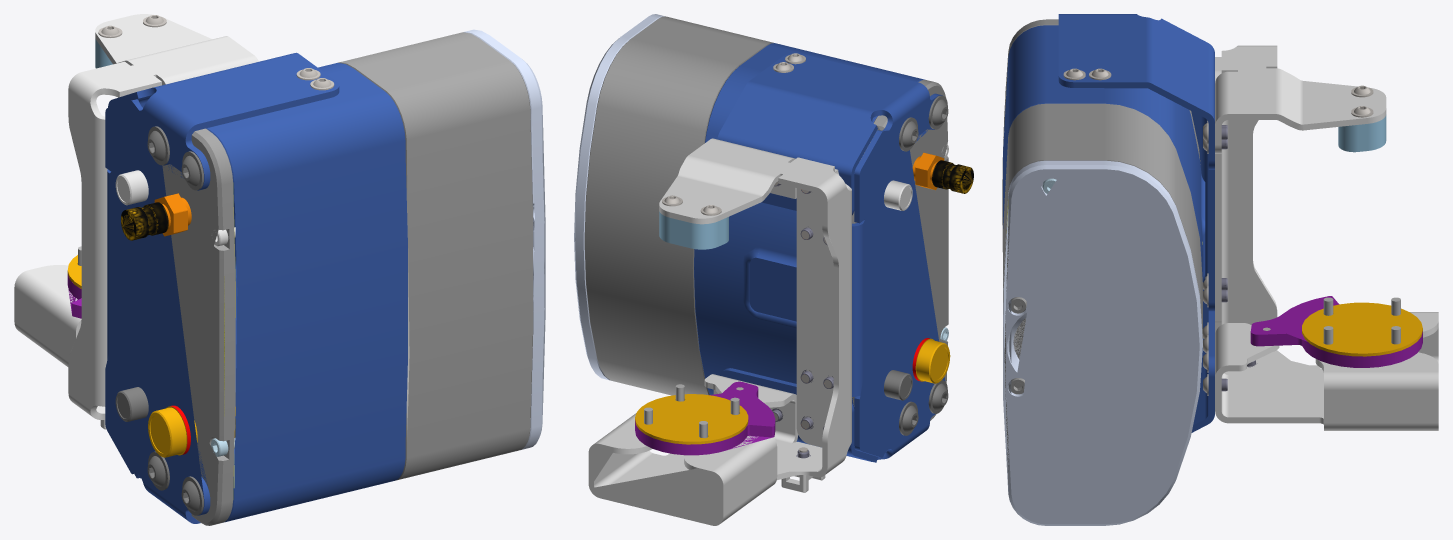
The model's file is neck_pitch_link_modified.obj.
3 renders of one model, left to right at view 1: azimuth 30°, elevation 25°; view 2: azimuth 150°, elevation 25°; view 3: azimuth 270°, elevation 25°, orthographic. The views are drawn at different scales.
Visible parts, largest first — view 1: mesh813_mesh813_0.231373_0.380392_0.705882_0.000000_0.000000, mesh322_mesh322_0.647059_0.647059_0.647059_0.000000_0.000000, mesh1059_mesh1059_0.231373_0.380392_0.705882_0.000000_0.000000, mesh3_mesh3_0.647059_0.647059_0.647059_0.000000_0.000000, mesh812_mesh812_0.231373_0.380392_0.705882_0.000000_0.000000, mesh320_mesh320_0.647059_0.647059_0.647059_0.000000_0.000000, mesh1044_mesh1044_0.231373_0.380392_0.705882_0.000000_0.000000, mesh1248_mesh1248_0.917647_0.917647_0.917647_0.000000_0.000000, mesh1278_mesh1278_0.917647_0.917647_0.917647_0.000000_0.000000, mesh1251_mesh1251_0.917647_0.917647_0.917647_0.000000_0.000000, mesh335_mesh335_0.647059_0.647059_0.647059_0.000000_0.000000, mesh547_mesh547_0.866667_0.909804_1.000000_0.000000_0.000000 (+15 smaller); view 2: mesh329_mesh329_0.647059_0.647059_0.647059_0.000000_0.000000, mesh1059_mesh1059_0.231373_0.380392_0.705882_0.000000_0.000000, mesh836_mesh836_0.231373_0.380392_0.705882_0.000000_0.000000, mesh331_mesh331_0.647059_0.647059_0.647059_0.000000_0.000000, mesh1309_mesh1309_0.917647_0.917647_0.917647_0.000000_0.000000, mesh1050_mesh1050_0.231373_0.380392_0.705882_0.000000_0.000000, mesh1207_mesh1207_0.917647_0.917647_0.917647_0.000000_0.000000, mesh1044_mesh1044_0.231373_0.380392_0.705882_0.000000_0.000000, mesh3_mesh3_0.647059_0.647059_0.647059_0.000000_0.000000, mesh1248_mesh1248_0.917647_0.917647_0.917647_0.000000_0.000000, mesh255_mesh255_0.980392_0.713725_0.003922_0.000000_0.000000, mesh1278_mesh1278_0.917647_0.917647_0.917647_0.000000_0.000000 (+34 smaller); view 3: mesh532_mesh532_0.866667_0.909804_1.000000_0.000000_0.000000, mesh1247_mesh1247_0.917647_0.917647_0.917647_0.000000_0.000000, mesh1044_mesh1044_0.231373_0.380392_0.705882_0.000000_0.000000, mesh1319_mesh1319_0.917647_0.917647_0.917647_0.000000_0.000000, mesh255_mesh255_0.980392_0.713725_0.003922_0.000000_0.000000, mesh331_mesh331_0.647059_0.647059_0.647059_0.000000_0.000000, mesh1050_mesh1050_0.231373_0.380392_0.705882_0.000000_0.000000, mesh1203_mesh1203_0.917647_0.917647_0.917647_0.000000_0.000000, mesh335_mesh335_0.647059_0.647059_0.647059_0.000000_0.000000, mesh1278_mesh1278_0.917647_0.917647_0.917647_0.000000_0.000000, mesh812_mesh812_0.231373_0.380392_0.705882_0.000000_0.000000, mesh1302_mesh1302_0.917647_0.917647_0.917647_0.000000_0.000000 (+26 smaller).
Part boxes in pixels (x1,y1,x2,y2): mesh813_mesh813_0.231373_0.380392_0.705882_0.000000_0.000000: (234,140,407,500); mesh322_mesh322_0.647059_0.647059_0.647059_0.000000_0.000000: (406,110,532,458); mesh1059_mesh1059_0.231373_0.380392_0.705882_0.000000_0.000000: (105,101,204,515); mesh3_mesh3_0.647059_0.647059_0.647059_0.000000_0.000000: (162,135,219,523); mesh812_mesh812_0.231373_0.380392_0.705882_0.000000_0.000000: (214,91,405,182); mesh320_mesh320_0.647059_0.647059_0.647059_0.000000_0.000000: (387,60,530,139); mesh1044_mesh1044_0.231373_0.380392_0.705882_0.000000_0.000000: (156,54,339,123); mesh1248_mesh1248_0.917647_0.917647_0.917647_0.000000_0.000000: (68,89,94,409); mesh1278_mesh1278_0.917647_0.917647_0.917647_0.000000_0.000000: (81,37,253,91); mesh1251_mesh1251_0.917647_0.917647_0.917647_0.000000_0.000000: (94,115,107,406); mesh335_mesh335_0.647059_0.647059_0.647059_0.000000_0.000000: (355,38,509,90); mesh547_mesh547_0.866667_0.909804_1.000000_0.000000_0.000000: (531,107,544,427); mesh329_mesh329_0.647059_0.647059_0.647059_0.000000_0.000000: (584,105,705,385); mesh1059_mesh1059_0.231373_0.380392_0.705882_0.000000_0.000000: (859,95,945,457); mesh836_mesh836_0.231373_0.380392_0.705882_0.000000_0.000000: (694,132,854,403); mesh331_mesh331_0.647059_0.647059_0.647059_0.000000_0.000000: (597,38,738,131); mesh1309_mesh1309_0.917647_0.917647_0.917647_0.000000_0.000000: (796,188,833,447); mesh1050_mesh1050_0.231373_0.380392_0.705882_0.000000_0.000000: (720,85,876,163); mesh1207_mesh1207_0.917647_0.917647_0.917647_0.000000_0.000000: (588,443,723,525); mesh1044_mesh1044_0.231373_0.380392_0.705882_0.000000_0.000000: (750,53,918,111); mesh3_mesh3_0.647059_0.647059_0.647059_0.000000_0.000000: (910,85,948,420); mesh1248_mesh1248_0.917647_0.917647_0.917647_0.000000_0.000000: (827,188,850,467); mesh255_mesh255_0.980392_0.713725_0.003922_0.000000_0.000000: (635,394,748,441); mesh1278_mesh1278_0.917647_0.917647_0.917647_0.000000_0.000000: (689,139,835,186); mesh532_mesh532_0.866667_0.909804_1.000000_0.000000_0.000000: (1006,169,1199,524); mesh1247_mesh1247_0.917647_0.917647_0.917647_0.000000_0.000000: (1229,120,1277,324); mesh1044_mesh1044_0.231373_0.380392_0.705882_0.000000_0.000000: (1058,15,1145,82); mesh1319_mesh1319_0.917647_0.917647_0.917647_0.000000_0.000000: (1224,350,1323,418); mesh255_mesh255_0.980392_0.713725_0.003922_0.000000_0.000000: (1302,302,1422,353); mesh331_mesh331_0.647059_0.647059_0.647059_0.000000_0.000000: (1104,103,1175,204); mesh1050_mesh1050_0.231373_0.380392_0.705882_0.000000_0.000000: (1152,18,1207,112); mesh1203_mesh1203_0.917647_0.917647_0.917647_0.000000_0.000000: (1324,390,1438,422); mesh335_mesh335_0.647059_0.647059_0.647059_0.000000_0.000000: (1046,103,1104,159); mesh1278_mesh1278_0.917647_0.917647_0.917647_0.000000_0.000000: (1221,47,1277,113); mesh812_mesh812_0.231373_0.380392_0.705882_0.000000_0.000000: (1008,25,1046,133); mesh1302_mesh1302_0.917647_0.917647_0.917647_0.000000_0.000000: (1303,81,1386,124).
Size of the model in its own units: 0.1309 by 0.1325 by 0.137.
23 materials, 1 textured.
